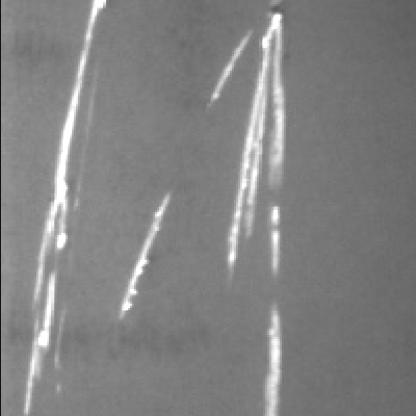scratches: (19, 4, 100, 416), (202, 9, 281, 286), (112, 194, 172, 324), (250, 296, 286, 416)
